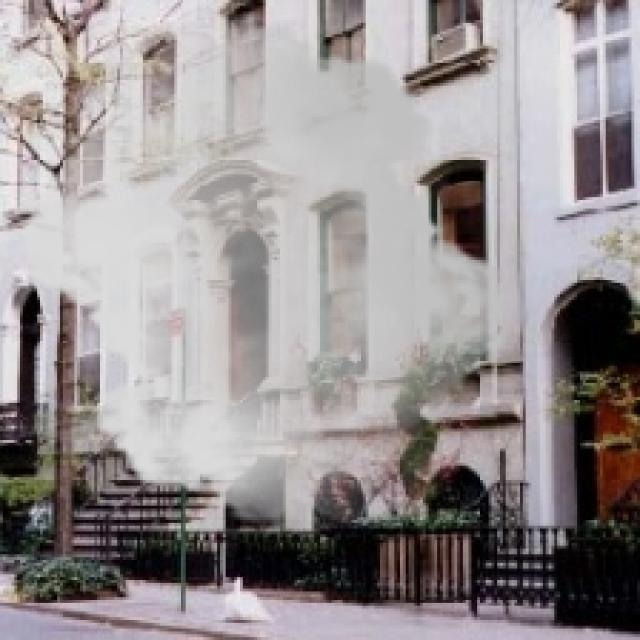Smoke: (0, 12, 529, 534)
